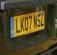7: (28, 15, 32, 30)
K: (20, 17, 24, 32)
L: (15, 18, 21, 33)
O: (24, 16, 29, 31)
